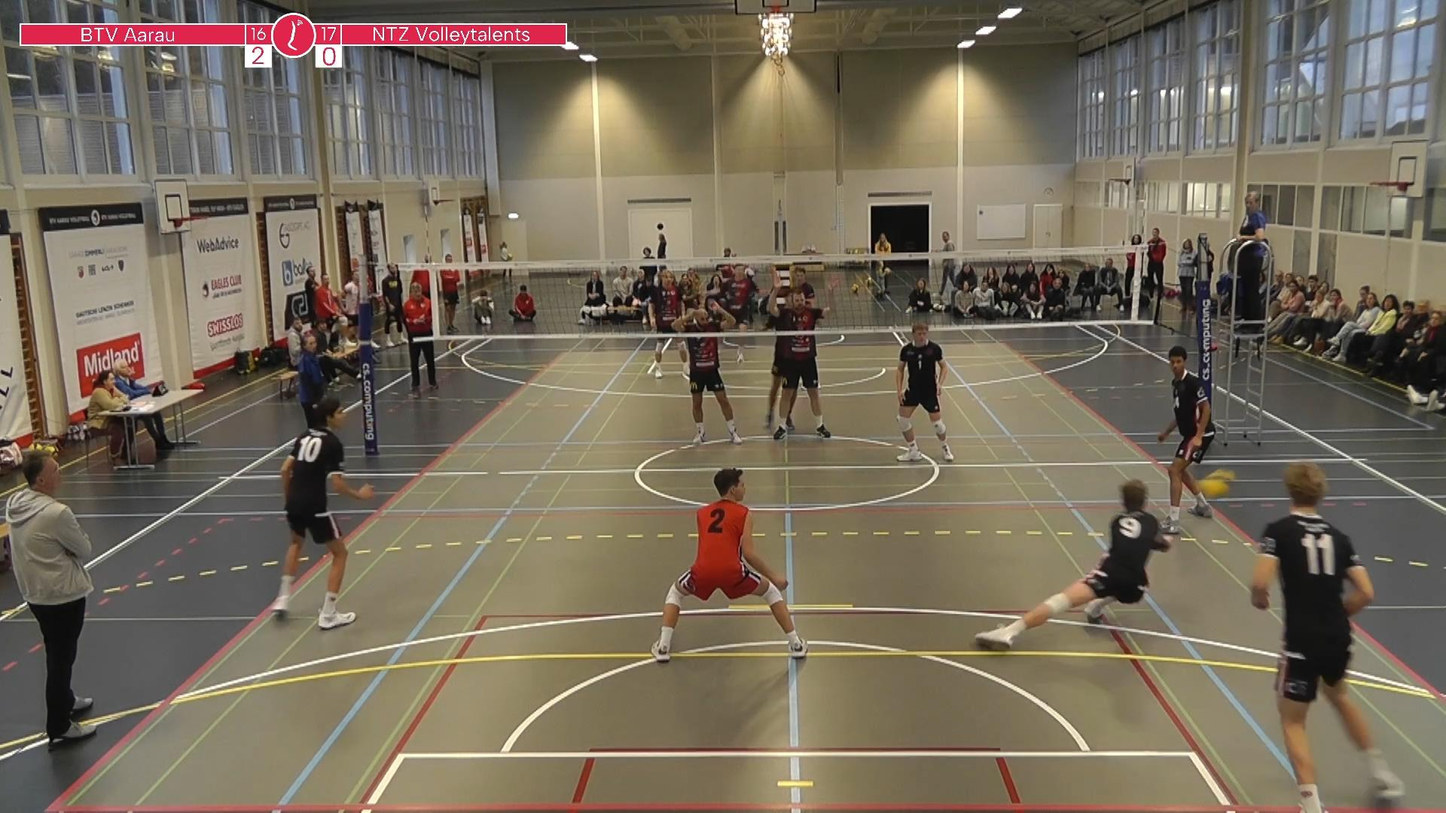Player: (1252, 463, 1403, 812), (976, 480, 1169, 650), (651, 468, 807, 662), (272, 396, 374, 629), (1158, 346, 1215, 535), (673, 301, 742, 444), (769, 290, 831, 439), (896, 323, 954, 461), (650, 270, 684, 379), (723, 266, 756, 332), (765, 336, 788, 430)
Receive: (978, 474, 1176, 657)
ball: (1197, 465, 1238, 504)
